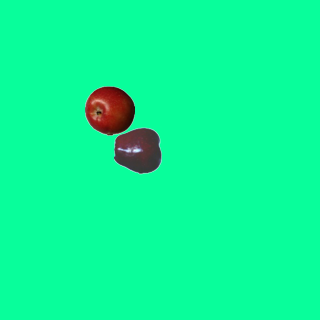Apple Braeburn: (84, 85, 134, 135)
Apple Red Delicious: (113, 125, 163, 175)
